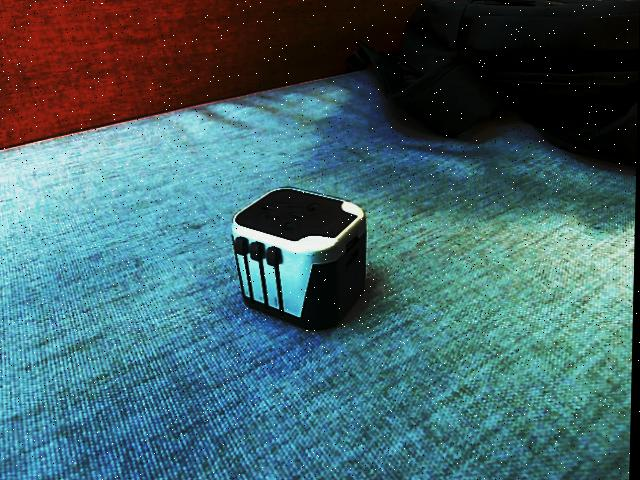adapter: (230, 186, 369, 330)
